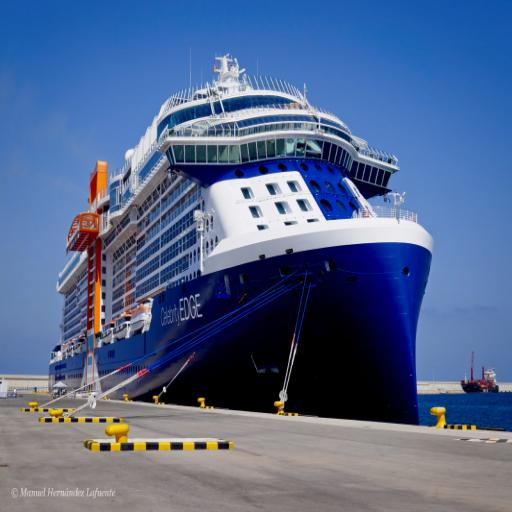cruises: (48, 52, 438, 443)
